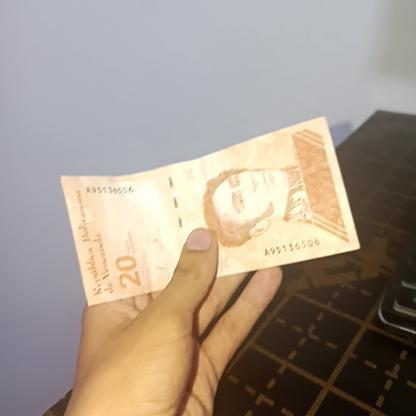twenty-front-vef: (58, 116, 361, 306)
